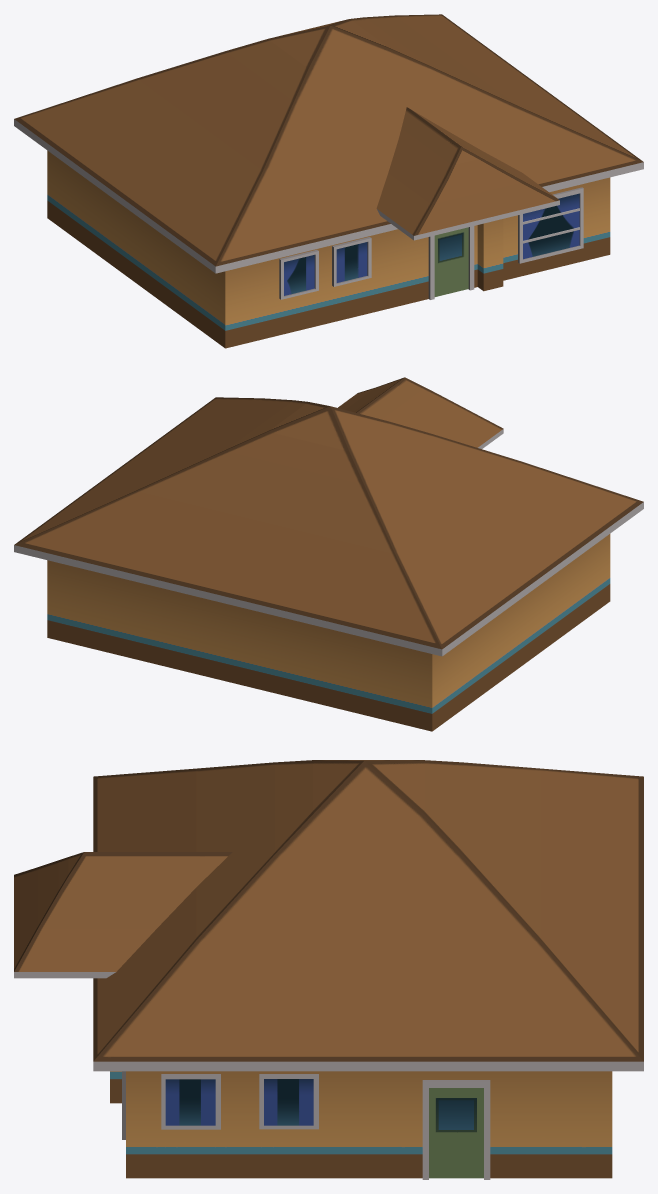
The model's file is Tx_Exterior_Property_LI_SSHT1_20170731.fbx.
The picture shows the model from 3 angles, top to bottom: view 1: azimuth 30°, elevation 25°; view 2: azimuth 150°, elevation 25°; view 3: azimuth 270°, elevation 25°; orthographic projection. The views are drawn at different scales.
Visible parts, largest first — view 1: SingleStorey; view 2: SingleStorey; view 3: SingleStorey.
Part boxes in pixels (left/top/right/bottom): SingleStorey: left=14, top=14, right=643, bottom=348; SingleStorey: left=14, top=377, right=643, bottom=731; SingleStorey: left=14, top=760, right=643, bottom=1179.
Bounding box in the file's own units: 25.03 × 11.85 × 23.36.
Materials: 1 (1 with a texture image).
